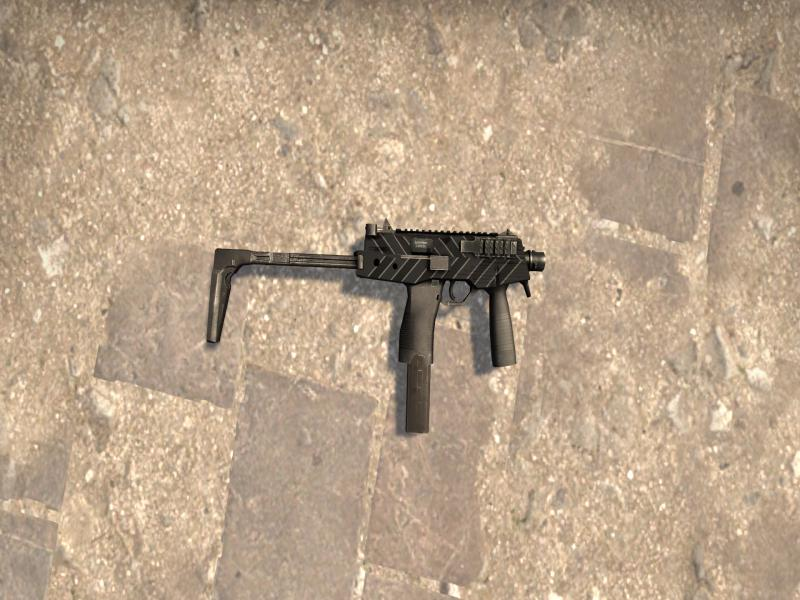MP9: (206, 218, 546, 433)
